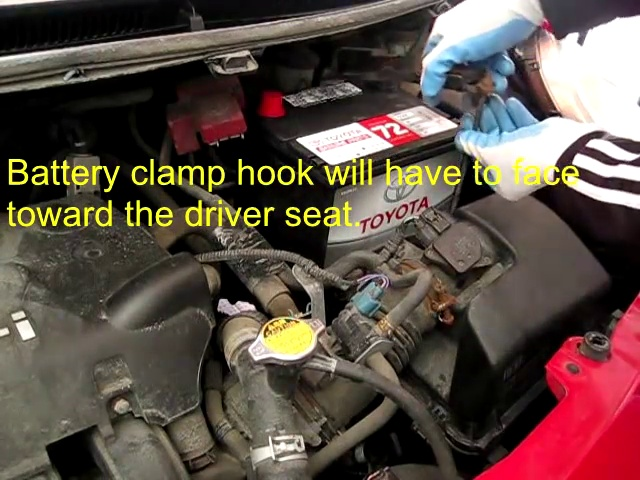battery: (233, 73, 472, 170)
pos_disconnected: (181, 80, 297, 144)
